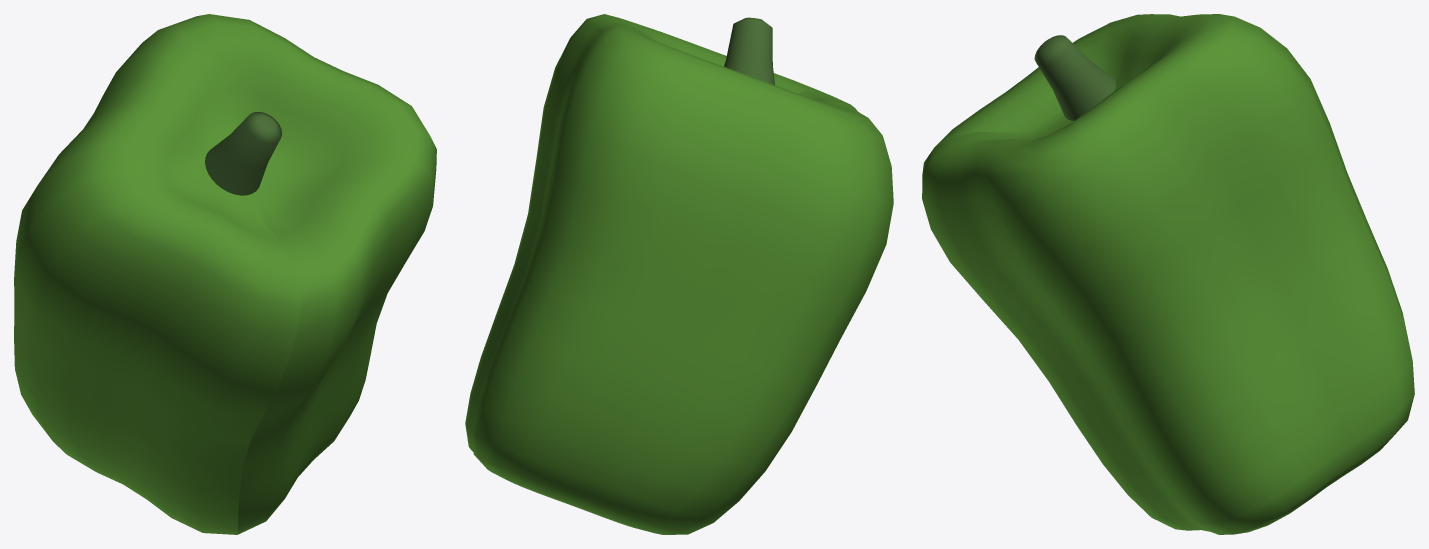
File: pepper.glb
3 renders of one model, left to right at view 1: azimuth 30°, elevation 25°; view 2: azimuth 150°, elevation 25°; view 3: azimuth 270°, elevation 25°, orthographic.
Visible parts, largest first — view 1: pepper; view 2: pepper; view 3: pepper.
Boxes of the visible parts, x1,y1,x2,y2 form: pepper: [14, 14, 436, 534]; pepper: [465, 14, 893, 534]; pepper: [922, 14, 1414, 534].
Size of the model in its own units: 0.7403 by 0.9631 by 0.8703.
